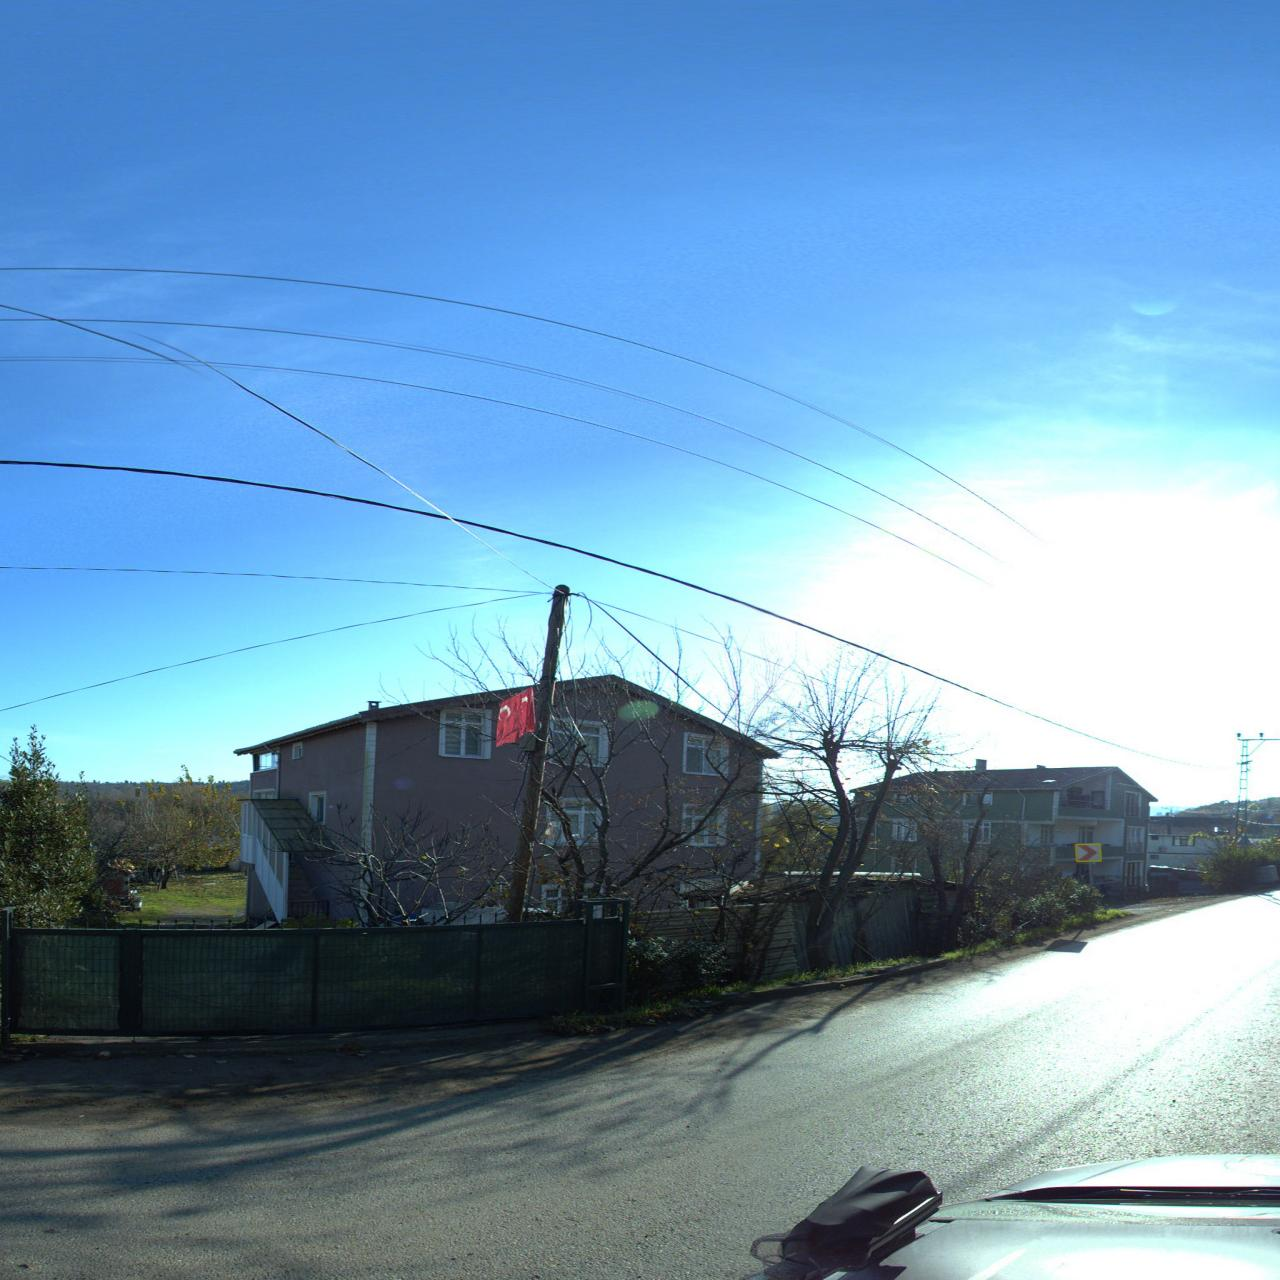Utility Pole Information Plate: (1242, 826, 1248, 832)
